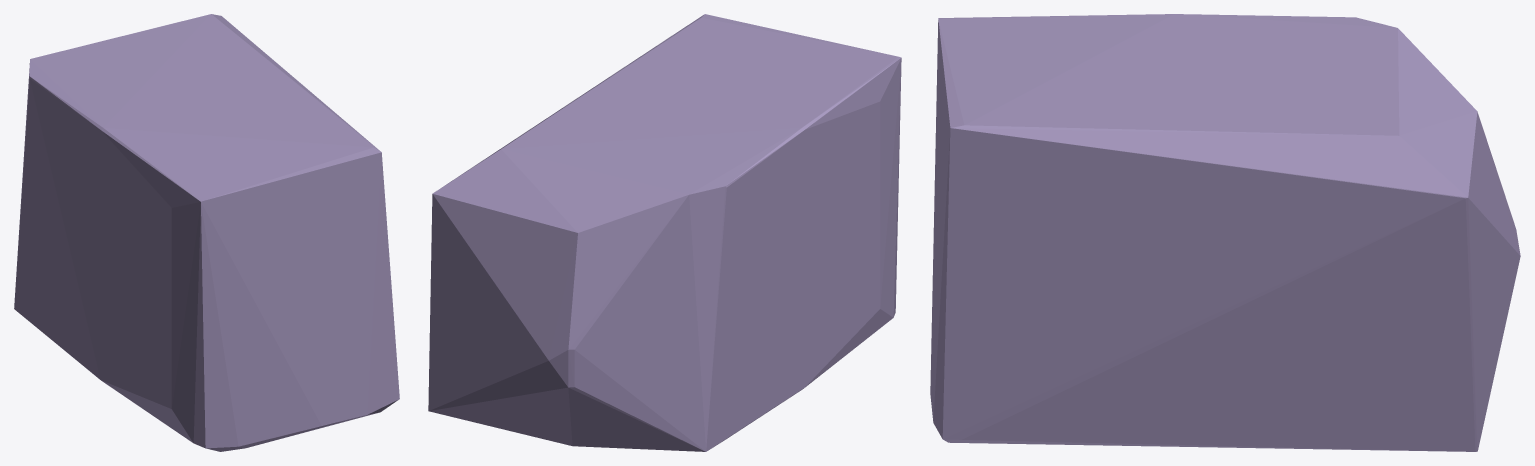
The model's file is cart_computer_a01.glb.
3 renders of one model, left to right at view 1: azimuth 30°, elevation 25°; view 2: azimuth 150°, elevation 25°; view 3: azimuth 270°, elevation 25°, orthographic. The views are drawn at different scales.
Parts seen in each view (by area): view 1: geometry_0; view 2: geometry_0; view 3: geometry_0.
Part boxes in pixels (x1,y1,x2,y2): geometry_0: [14, 14, 399, 451]; geometry_0: [428, 14, 901, 451]; geometry_0: [930, 14, 1520, 451].
Size of the model in its own units: 0.2752 by 0.283 by 0.4763.
